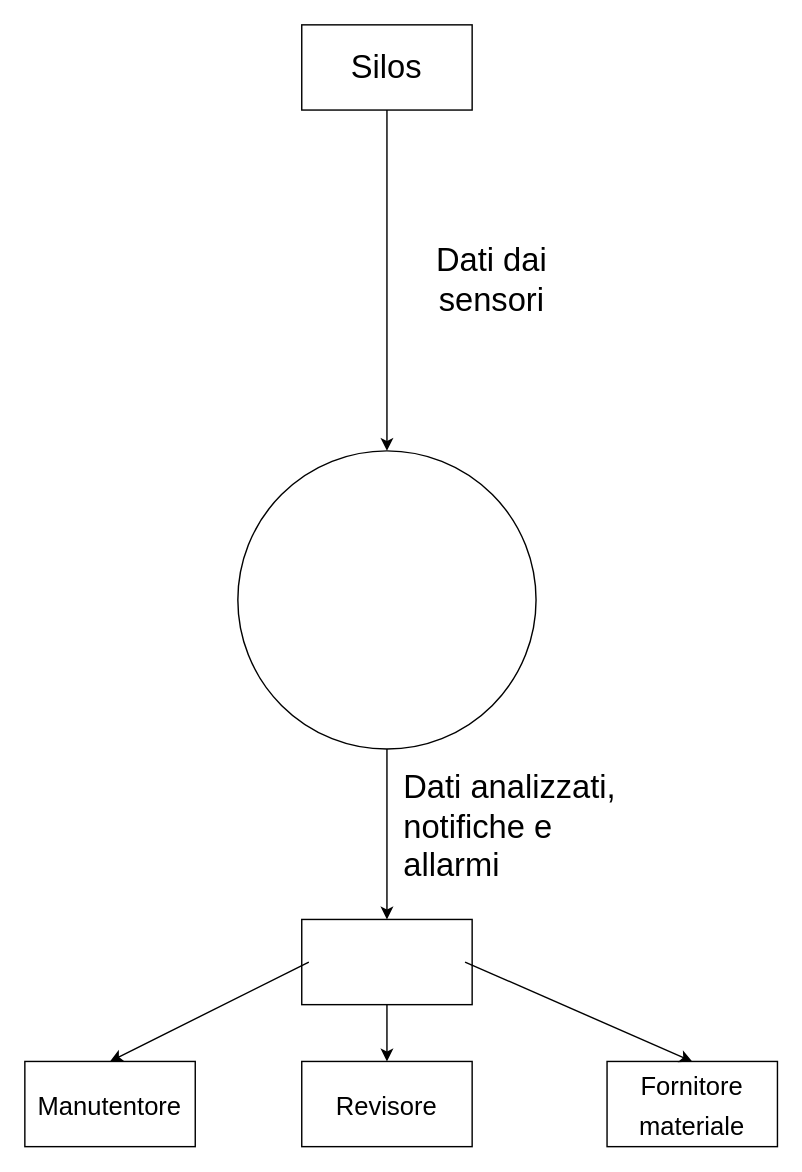
This 802x1172 diagram has some shape labels left out. Each missing label, with the box of its shape:
Software: (236, 449, 536, 749)
Utente: (300, 918, 472, 1005)
